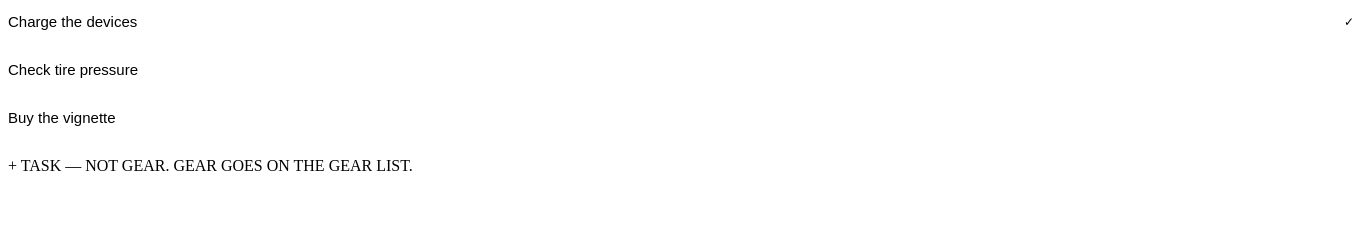
Test: the composer › opens a well on tap, with the hint and no placeholder
The width and height of the screenshot is (1366, 226).
Click the button "+ TASK — NOT GEAR. GEAR GOES ON THE GEAR LIST.": click(210, 166) [8, 142, 1358, 190]
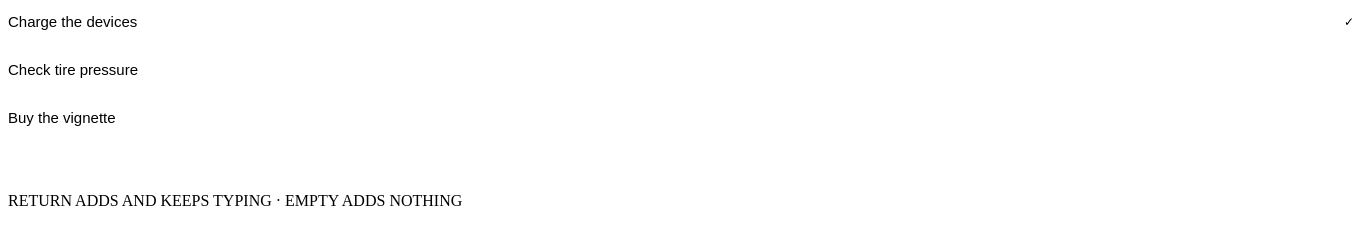
Check: the text "RETURN ADDS AND KEEPS TYPING · EMPTY ADDS NOTHING" is shown, box [8, 192, 462, 209]
